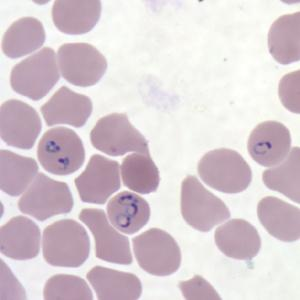Infected: (37, 126, 85, 176), (247, 120, 291, 168), (106, 190, 149, 235)
Uninfected: (78, 207, 134, 266), (180, 175, 230, 233), (90, 112, 151, 159), (9, 46, 59, 102), (19, 172, 74, 221), (41, 218, 91, 269), (198, 148, 251, 196), (57, 41, 108, 89), (75, 153, 121, 205), (133, 228, 181, 277), (41, 84, 93, 129), (0, 98, 42, 151), (264, 147, 299, 206), (215, 218, 261, 261), (0, 214, 41, 262), (2, 16, 46, 59), (258, 196, 299, 242), (52, 0, 102, 36), (0, 150, 37, 197), (88, 267, 141, 299), (268, 11, 299, 64), (121, 153, 160, 195), (43, 274, 96, 299)
